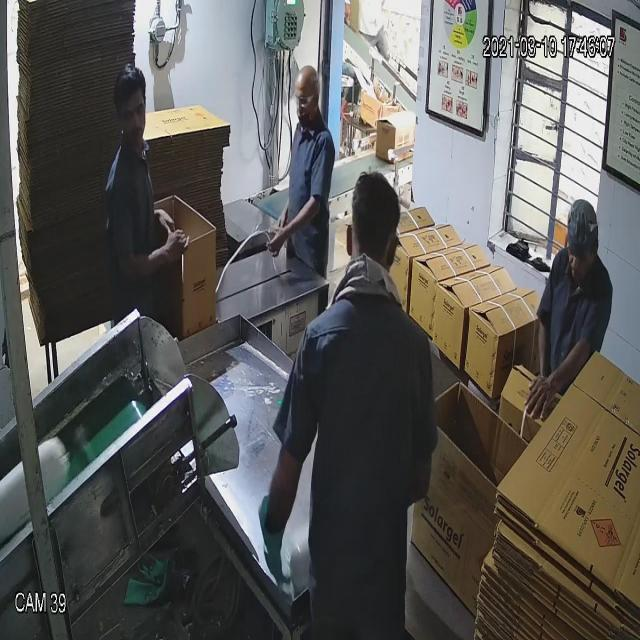No_Gloves: (74, 62, 561, 372)
